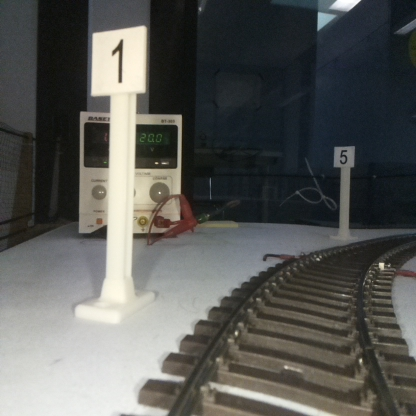white-info-1: (91, 29, 146, 316)
white-info-5: (334, 144, 355, 238)
